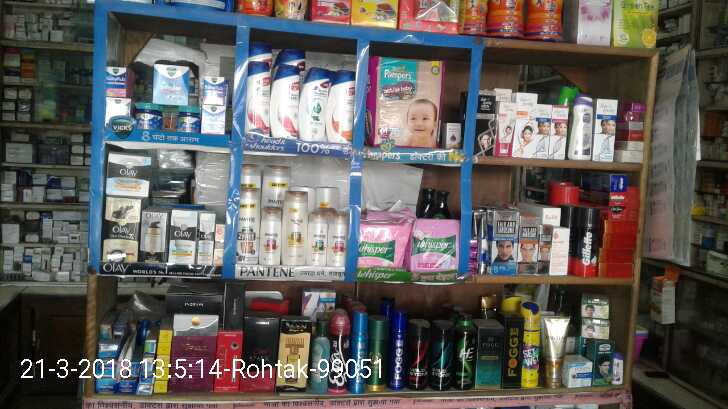beauty: (296, 59, 330, 140), (102, 200, 139, 265), (102, 150, 153, 196), (246, 59, 272, 135), (331, 67, 357, 142), (272, 67, 299, 136), (166, 207, 194, 269), (237, 186, 258, 262), (286, 187, 303, 269), (139, 213, 164, 265), (302, 214, 326, 266), (258, 206, 279, 264), (327, 216, 346, 271), (196, 214, 217, 263)
pharmacy: (371, 60, 440, 147), (404, 210, 460, 279), (357, 216, 404, 268), (199, 69, 231, 111), (132, 98, 158, 129), (171, 101, 195, 133), (105, 59, 124, 89)
